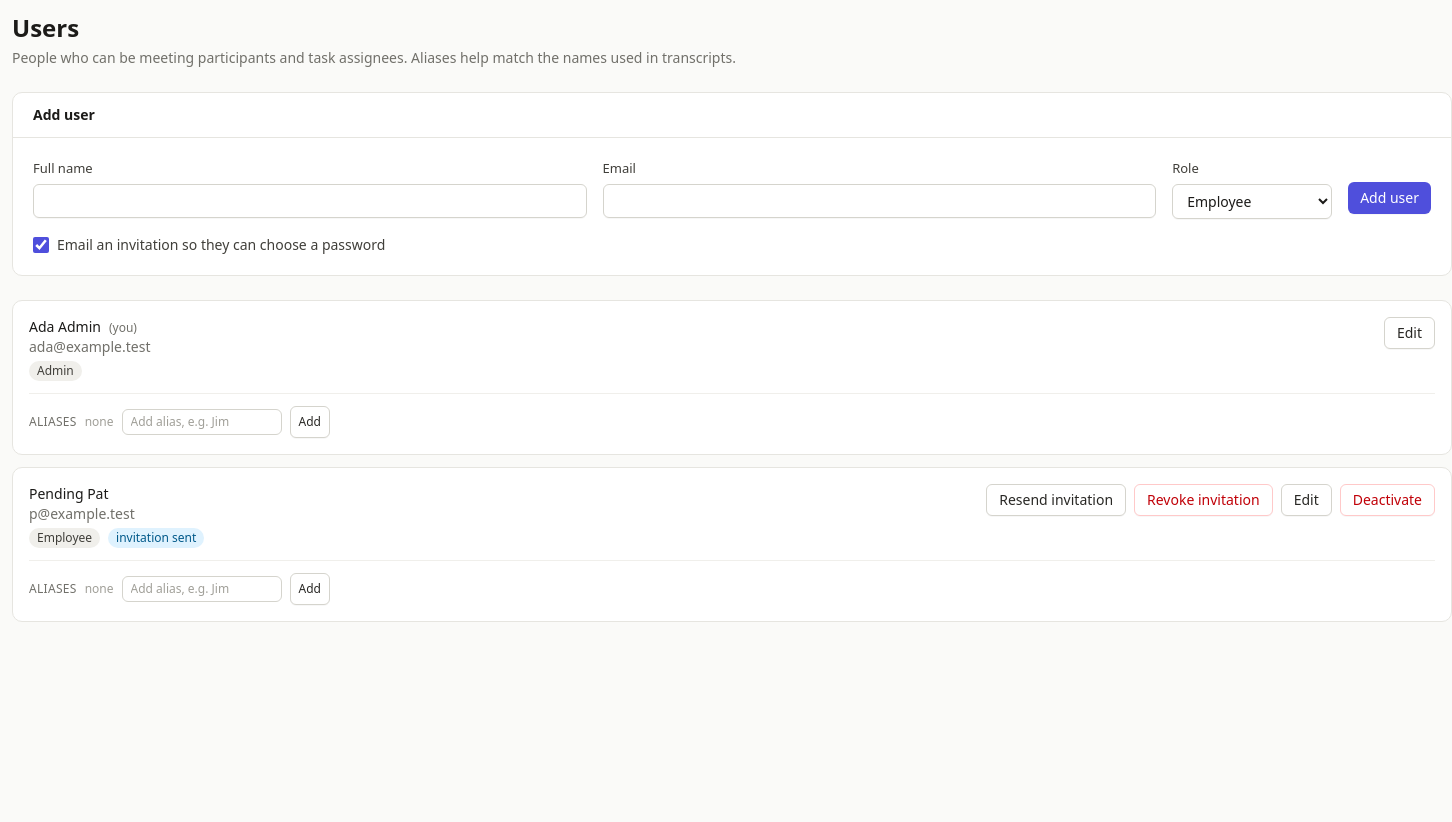
Scenario: Users page — invitations › resends and revokes an invitation
Expected: the text "Ada Admin" is shown, [29,317,101,336]
Click the button "Resend invitation": x=1056, y=500 [986,484,1126,516]
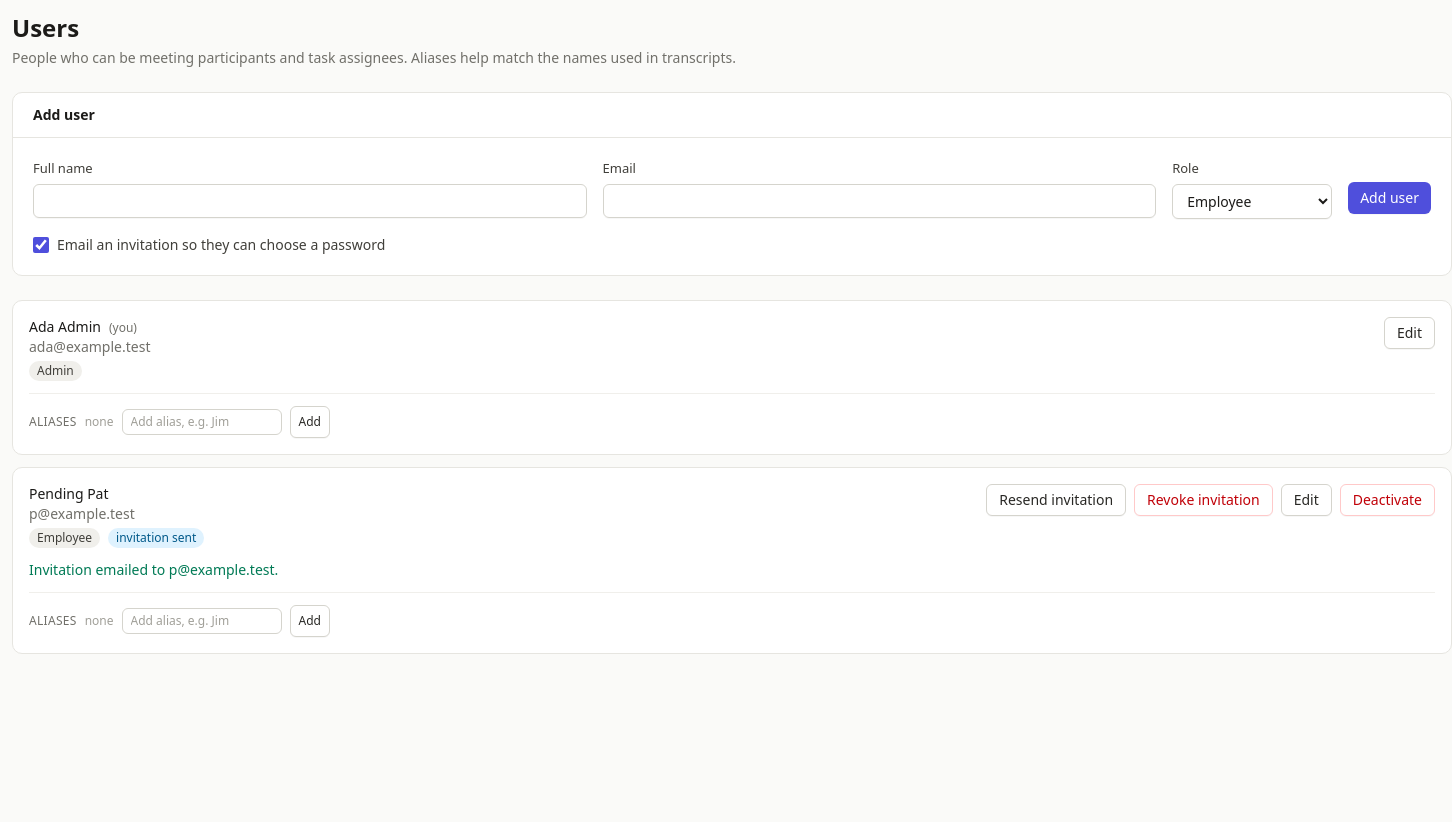
Expected: the text "Invitation emailed to p@example.test." is shown, [29,560,278,579]
Click the button "Revoke invitation": x=1203, y=500 [1134,484,1273,516]
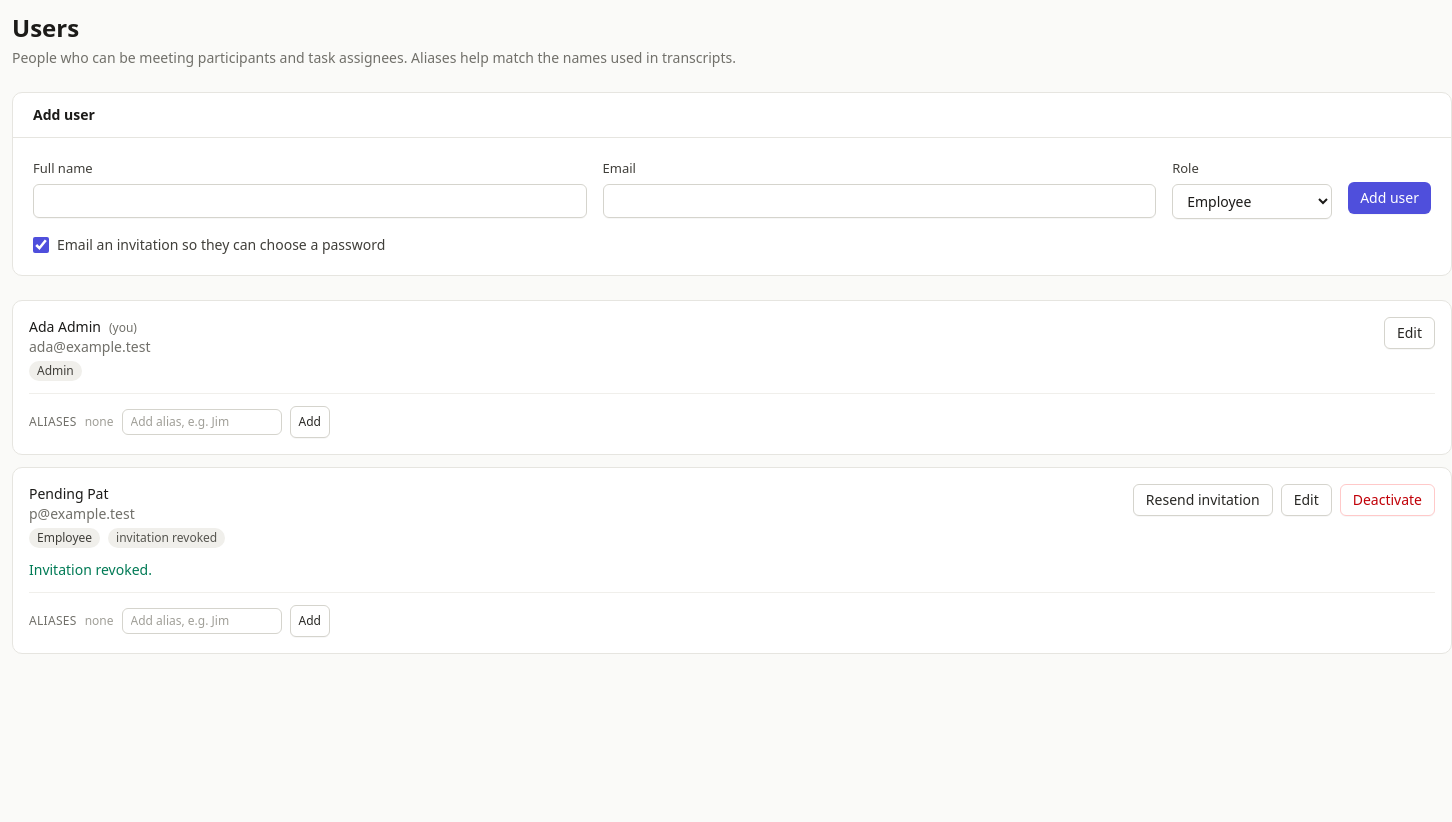
Expected: the text "invitation revoked" is shown, [108,528,225,548]
